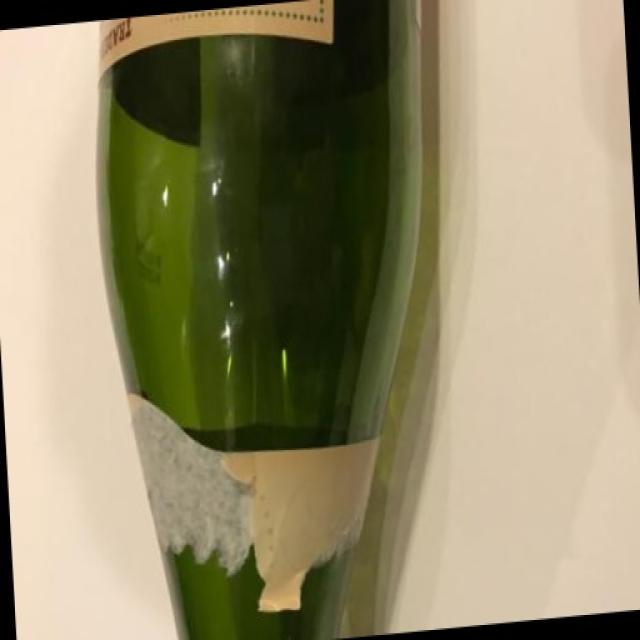vidrio: (80, 12, 520, 640)
